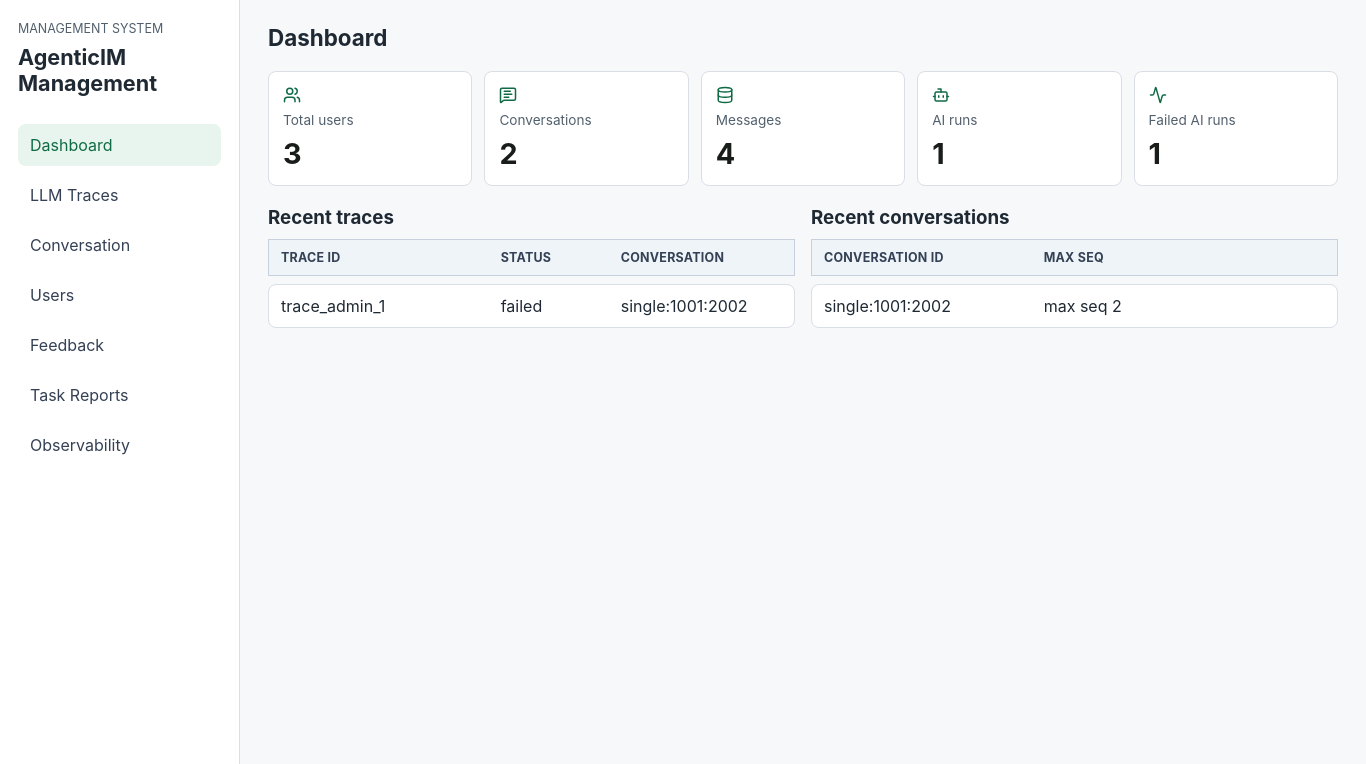
Test: AdminConsole › searches a user, shows friends and conversations, and opens a clicked conversation
This screenshot has width=1366, height=764.
Click the button "Users".
click(120, 295)  # box [18,274,221,316]
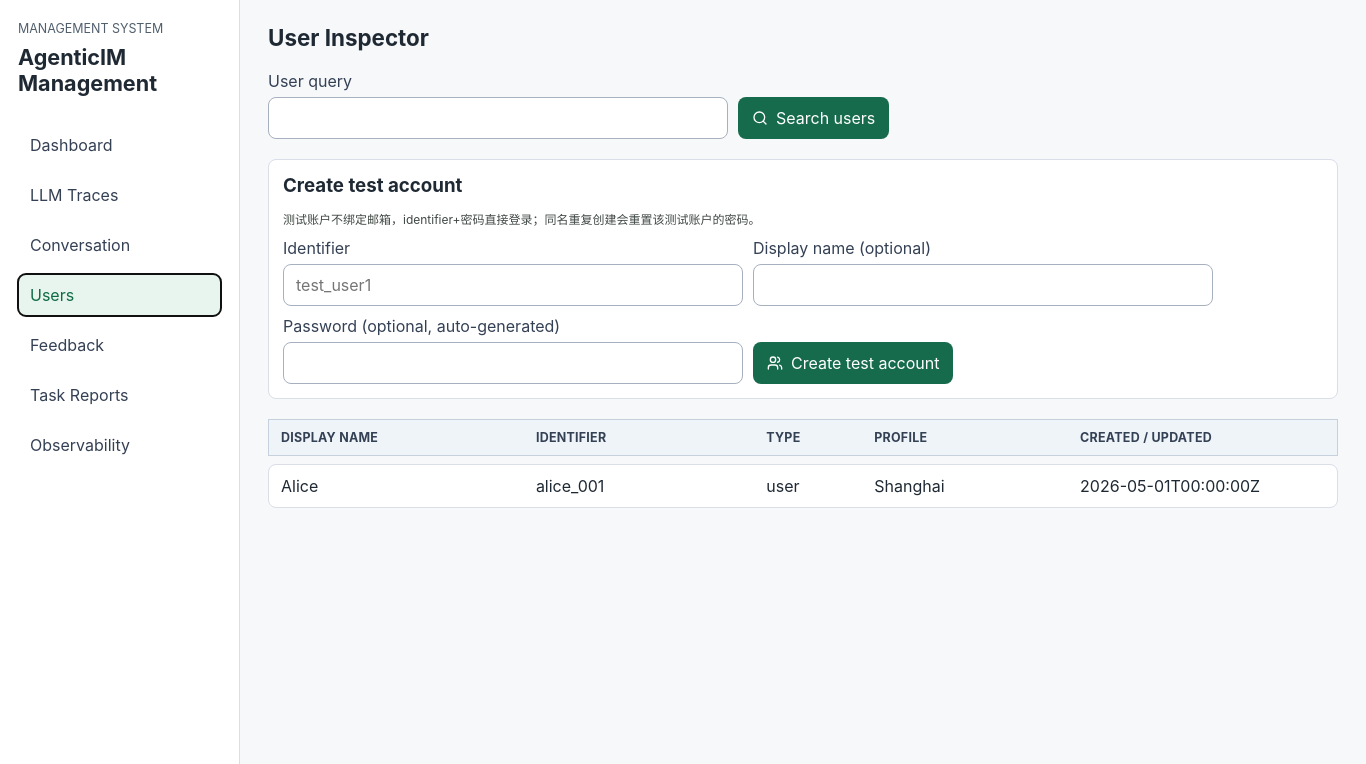
Type "alice" into the field labelled "User query".
click(498, 118); type("alice")  # box [268,97,728,139]
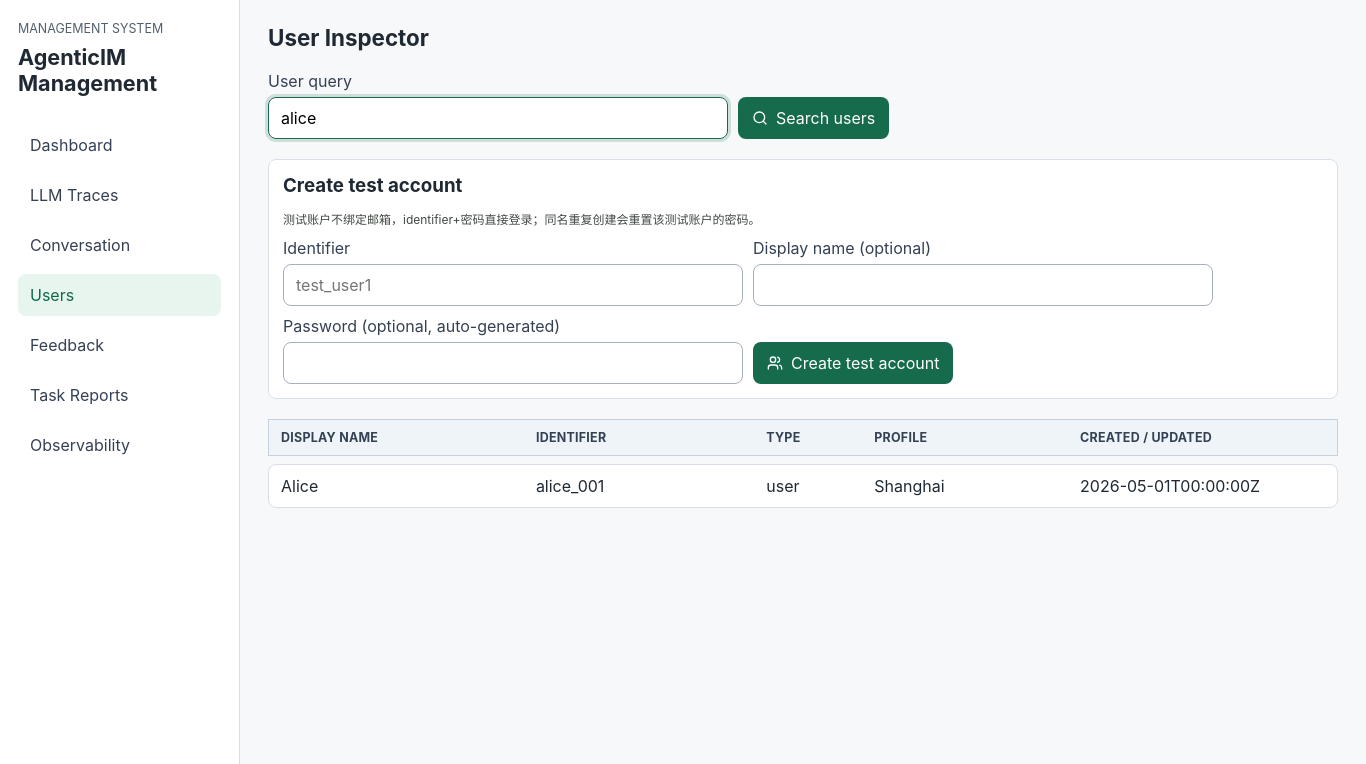
Click the button "Search users".
click(814, 118)  # box [738,97,889,139]
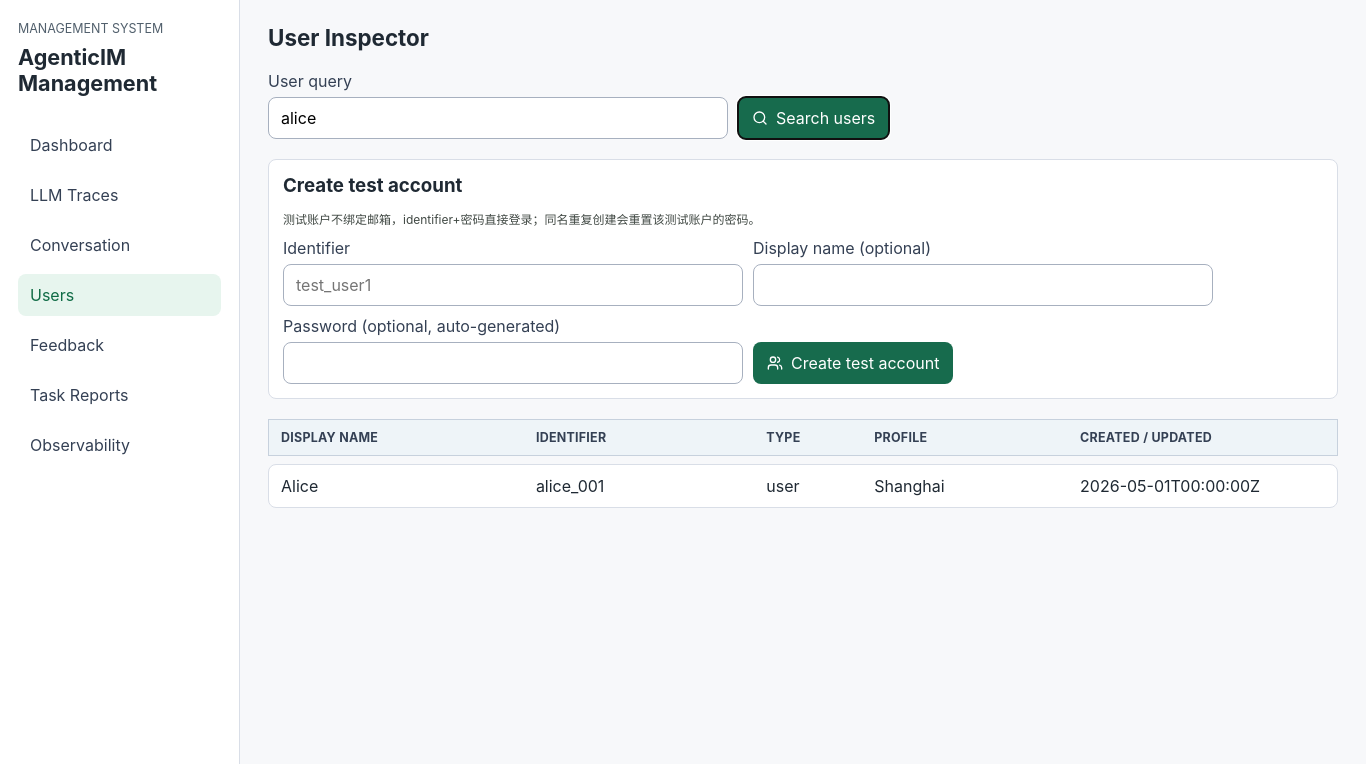
Click the button with aria-label "Open alice_001".
click(300, 486)  # box [268,464,1338,508]
(page scrolled)
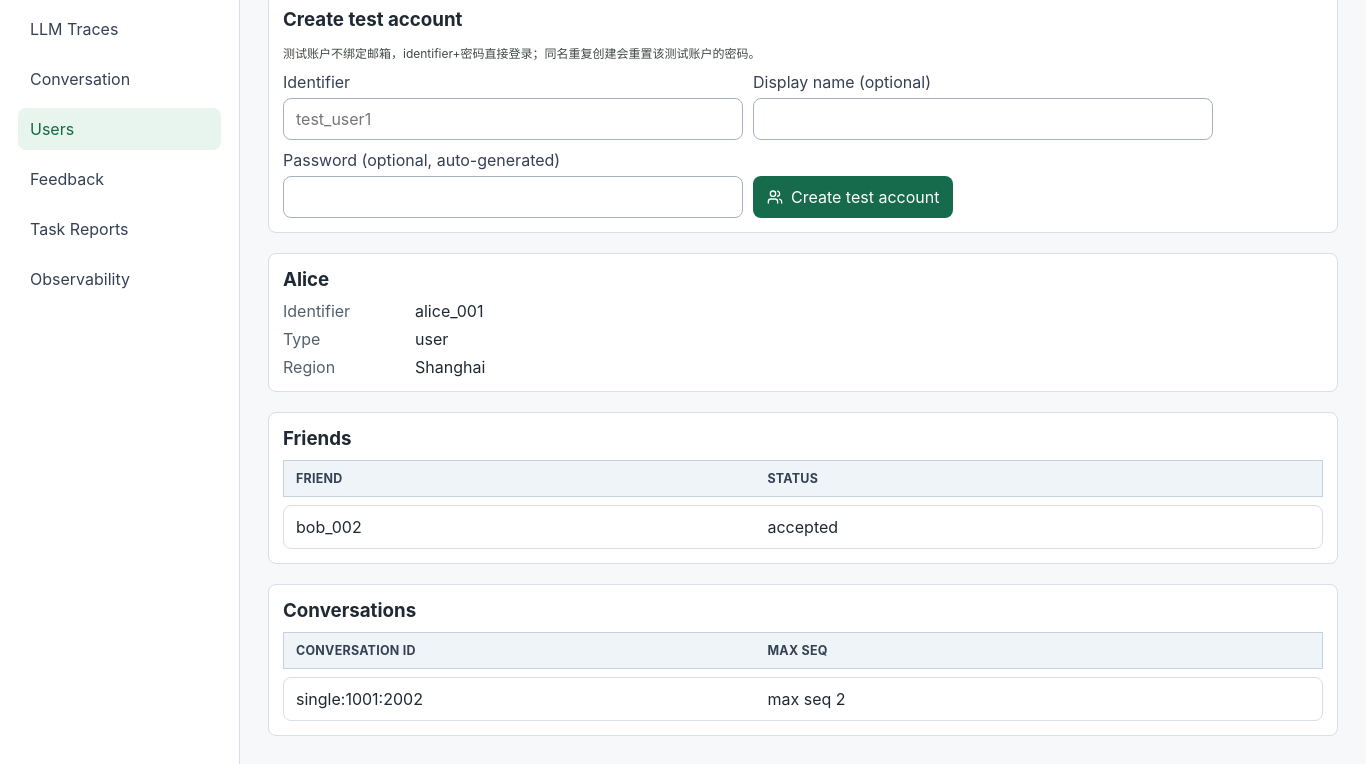
Expected: the heading "Alice" is shown, [283,268,329,291]
Expected: the text "bob_002" is shown, [296,517,362,537]
Click the button with aria-label "Open single:1001:2002".
click(803, 699)  # box [283,677,1323,721]
(page scrolled)
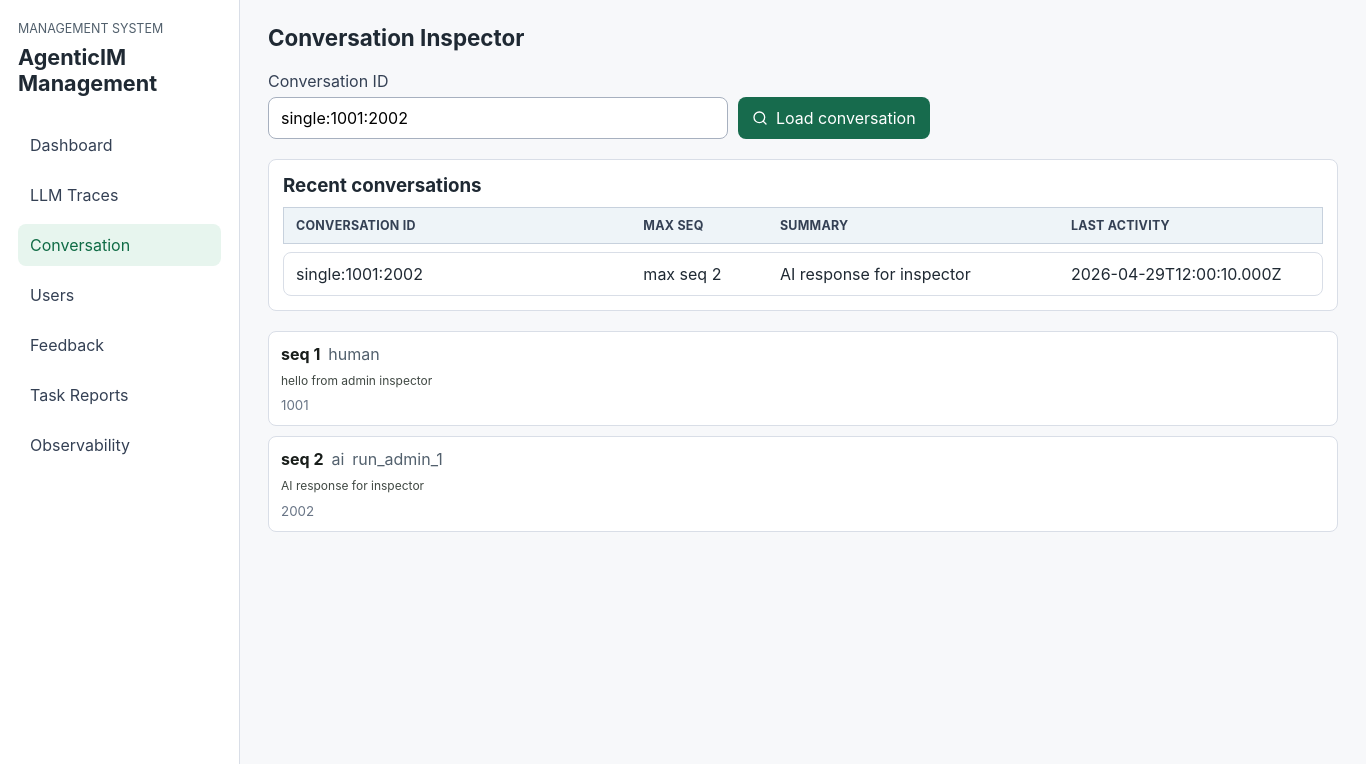
Expected: the heading "Conversation Inspector" is shown, [268,24,524,51]
Expected: the text "AI response for inspector" below "run_admin_1" is shown, [281,478,424,493]
